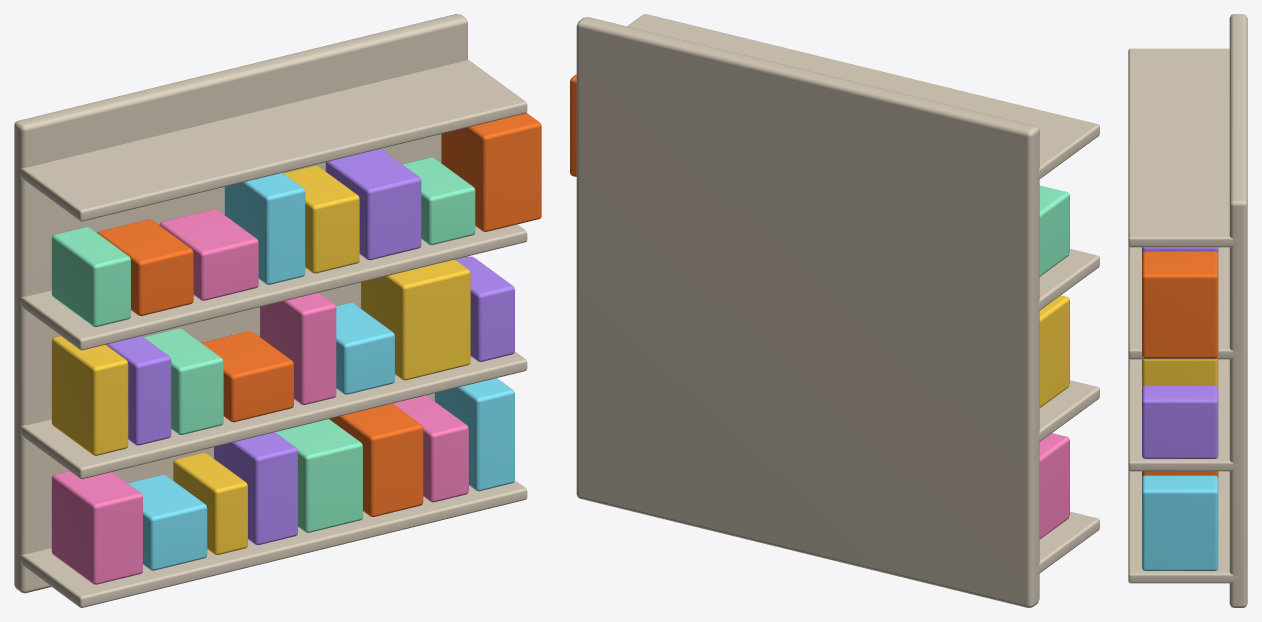
Rendered from mall_shelf.glb.
The picture shows the model from 3 angles, left to right: view 1: azimuth 30°, elevation 25°; view 2: azimuth 150°, elevation 25°; view 3: azimuth 270°, elevation 25°; orthographic projection. The views are drawn at different scales.
Parts seen in each view (by area): view 1: Shelf; view 2: Shelf; view 3: Shelf.
Boxes of the visible parts, <box> form: Shelf: <box>14,14,541,607</box>; Shelf: <box>570,14,1099,607</box>; Shelf: <box>1128,14,1247,607</box>.
Bounding box in the file's own units: 2.1 × 2 × 0.53.
